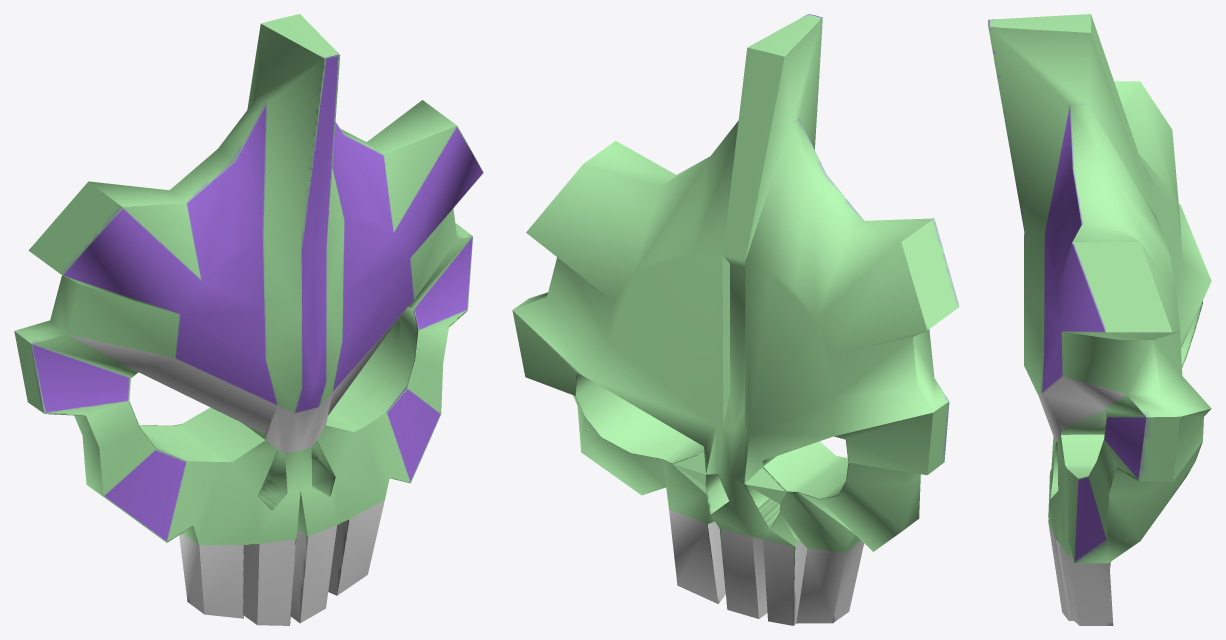
File: mask_01.glb
3 renders of one model, left to right at view 1: azimuth 30°, elevation 25°; view 2: azimuth 150°, elevation 25°; view 3: azimuth 270°, elevation 25°, orthographic. The views are drawn at different scales.
Visible parts, largest first — view 1: mask; view 2: mask; view 3: mask.
Part boxes in pixels (x1,y1,x2,y2): mask: (14,14,483,625); mask: (512,14,959,625); mask: (988,14,1211,625).
Bounding box in the file's own units: 2.39 × 3.08 × 1.06.
Materials: 1 (1 with a texture image).
